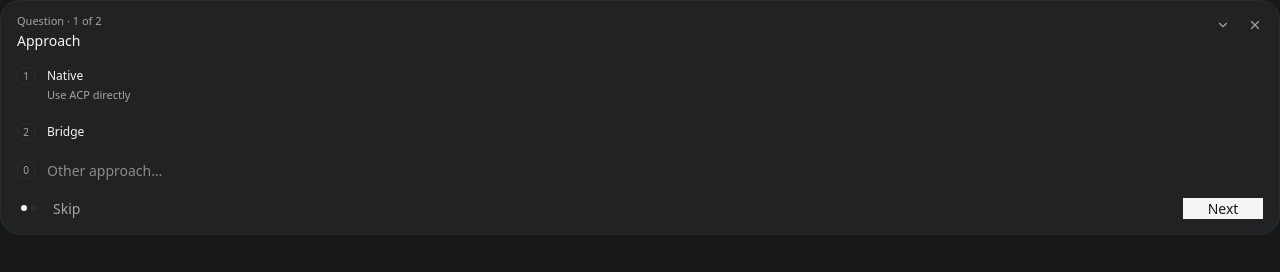
Test: ElicitationDock › validates the active Claude question before moving forward
The width and height of the screenshot is (1280, 272).
Click the button "Next".
click(1223, 208)  # box [1183,198,1263,219]
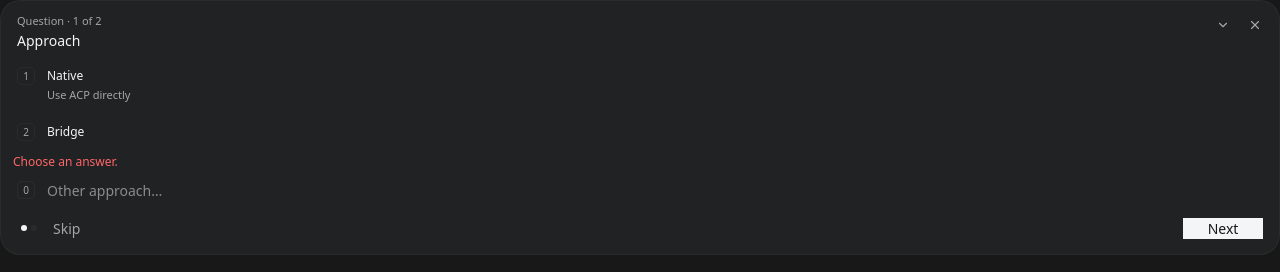
expect the text "Choose an answer." is shown: met, box [13,153,118,170]
